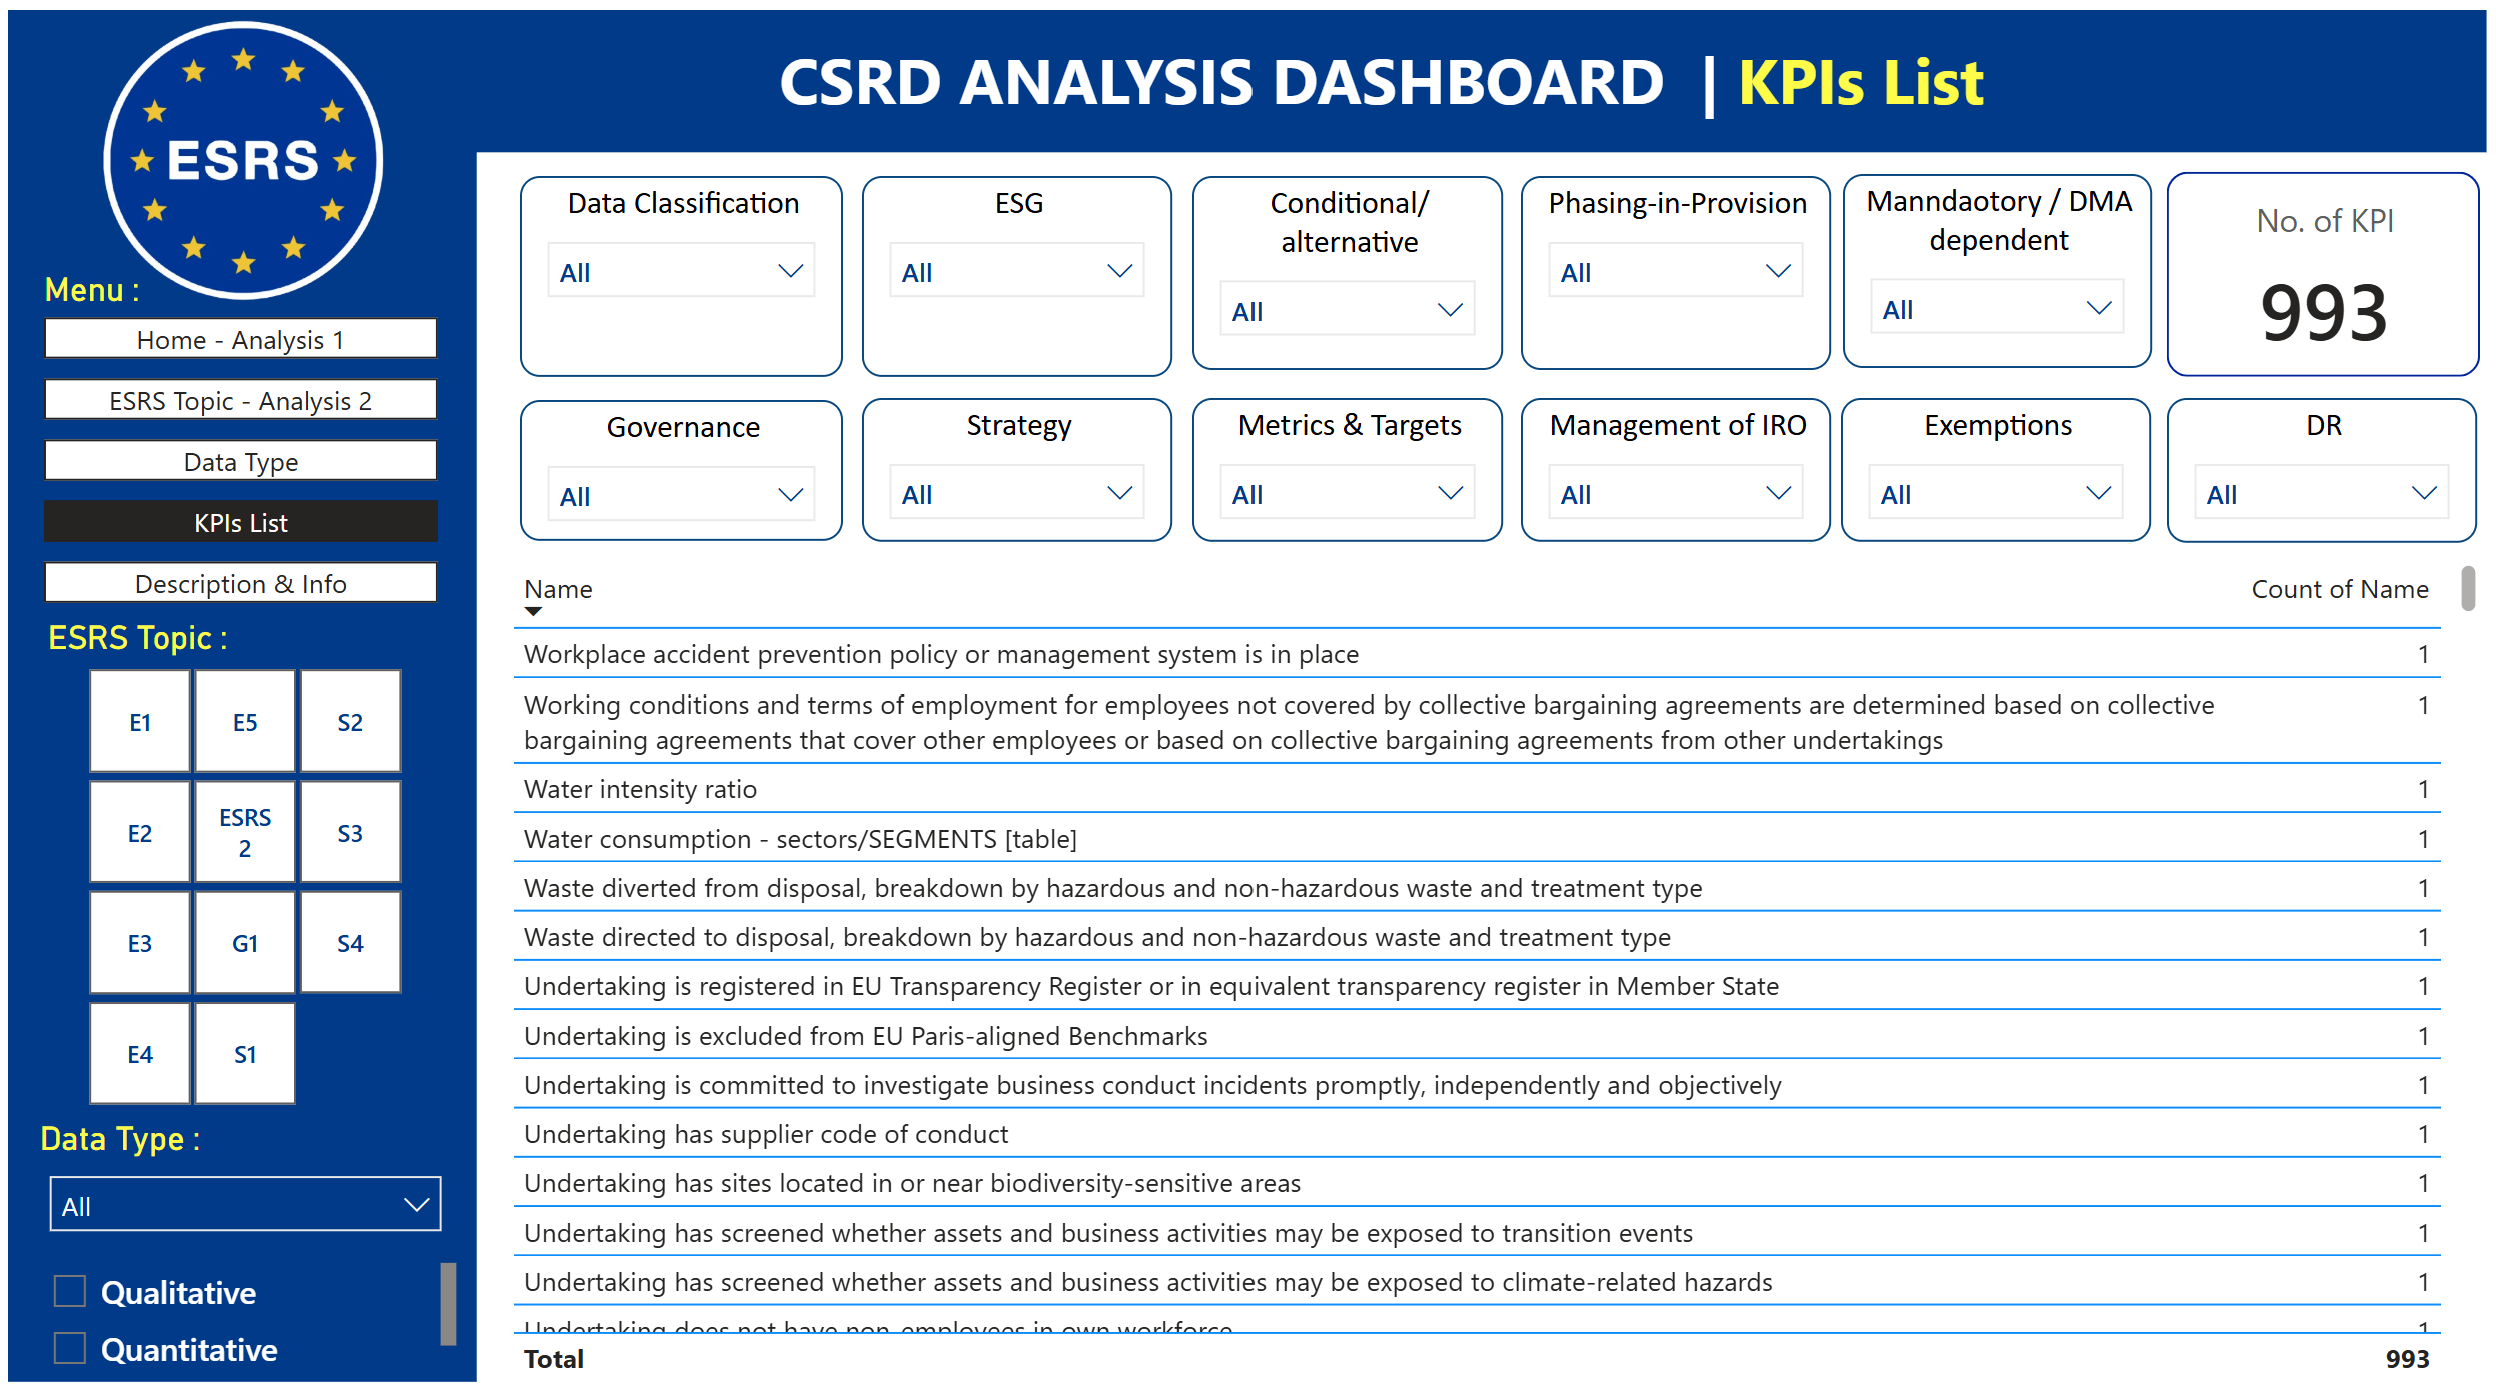

The page's visual inventory and layout, read from the dashboard file:
{"tool":"powerbi","page":{"name":"KPIs List","canvas":[1280,720],"ordinal":3},"visuals":[{"type":"shape","box":[12.3,19.7,1258,72.3],"z":0},{"type":"shape","box":[12.3,32.8,238.1,683.2],"z":1000},{"type":"slicer","title":"ESRS Topic :","fields":{"Values":["All topic ESRS (2).ESRS"]},"box":[27.5,328.3,208.3,253.3],"z":2000},{"type":"slicer","title":"Data Type :","fields":{"Values":["All topic ESRS (2).Data Type"]},"box":[23.3,581.7,219.2,61.7],"z":3000},{"type":"slicer","fields":{"Values":["All topic ESRS (2).Qualitative / Quantitative"]},"box":[22.5,650,222.5,64.2],"z":4000},{"type":"textbox","box":[353.9,27.9,710.3,55],"z":5000},{"type":"image","box":[50,13.3,163.3,166.7],"z":6000},{"type":"slicer","title":"Data Classification","fields":{"Values":["All topic ESRS (2).Data Classification"]},"box":[271.8,103.5,164.2,101.8],"z":8000},{"type":"slicer","title":"ESG","fields":{"Values":["All topic ESRS (2).ESG"]},"box":[445.9,103.5,157.7,101.8],"z":9000},{"type":"slicer","title":"Phasing-in-Provision","fields":{"Values":["All topic ESRS (2).Appendix C - ESRS 1DPs subject to phasing-in provisions applicable to undertaking with less than 750 "]},"box":[780,103.3,157.5,98.3],"z":10000},{"type":"slicer","title":"Governance","fields":{"Values":["All topic ESRS (2).Governance"]},"box":[271.8,217.6,164.2,71.4],"z":11000},{"type":"slicer","title":"Strategy","fields":{"Values":["All topic ESRS (2).Strategy"]},"box":[445.9,216,157.7,73.1],"z":12000},{"type":"slicer","title":"Metrics & Targets","fields":{"Values":["All topic ESRS (2).Metrics and targets"]},"box":[613.4,216,157.7,73.1],"z":13000},{"type":"slicer","title":"Management of IRO","fields":{"Values":["All topic ESRS (2).Management of IRO"]},"box":[780.1,216,157.7,73.1],"z":14000},{"type":"slicer","title":"Exemptions","fields":{"Values":["All topic ESRS (2).Exemptions from the requirement"]},"box":[942.7,216,157.7,73.1],"z":15000},{"type":"tableEx","fields":{"Values":["All topic ESRS (2).Name","CountNonNull(All topic ESRS (2).Name)"]},"box":[262.8,295.6,1007.6,424.5],"z":16000},{"type":"pageNavigator","title":"Menu :","box":[30.8,151.7,200.8,171.7],"z":17000},{"type":"slicer","title":"DR","fields":{"Values":["All topic ESRS (2).DR"]},"box":[1108.3,215.8,157.5,73.3],"z":18000},{"type":"slicer","title":"Conditional/  alternative","fields":{"Values":["All topic ESRS (2).Conditional or alternative DP"]},"box":[613.3,103.3,157.5,98.3],"z":19000},{"type":"slicer","title":"Manndaotory / DMA dependent","fields":{"Values":["All topic ESRS.Mandatory / DMA dependent"]},"box":[943.5,102.8,156.8,98.3],"z":19001},{"type":"cardVisual","fields":{"Data":["CountNonNull(All topic ESRS (2).Name)"]},"box":[1102.8,96.9,170,114.1],"z":19002}]}

Visuals, with their boxes in screenshot pixels (x1, y1, x2, y2), scaled from the page's 1280x720 canvas onto the 2496x1384 screenshot:
shape: (24, 38, 2477, 177)
shape: (24, 63, 488, 1376)
"ESRS Topic :" slicer: (54, 631, 460, 1118)
"Data Type :" slicer: (45, 1118, 473, 1237)
slicer - All topic ESRS (2).Qualitative / Quantitative: (44, 1249, 478, 1373)
textbox: (690, 54, 2075, 159)
image: (98, 26, 416, 346)
"Data Classification" slicer: (530, 199, 850, 395)
"ESG" slicer: (870, 199, 1177, 395)
"Phasing-in-Provision" slicer: (1521, 199, 1828, 388)
"Governance" slicer: (530, 418, 850, 556)
"Strategy" slicer: (870, 415, 1177, 556)
"Metrics & Targets" slicer: (1196, 415, 1504, 556)
"Management of IRO" slicer: (1521, 415, 1829, 556)
"Exemptions" slicer: (1838, 415, 2146, 556)
tableEx - All topic ESRS (2).Name x CountNonNull(All topic ESRS (2).Name): (512, 568, 2477, 1383)
"Menu :" pageNavigator: (60, 292, 452, 622)
"DR" slicer: (2161, 415, 2468, 556)
"Conditional/  alternative" slicer: (1196, 199, 1503, 388)
"Manndaotory / DMA dependent" slicer: (1840, 198, 2146, 387)
cardVisual - CountNonNull(All topic ESRS (2).Name): (2150, 186, 2482, 406)
